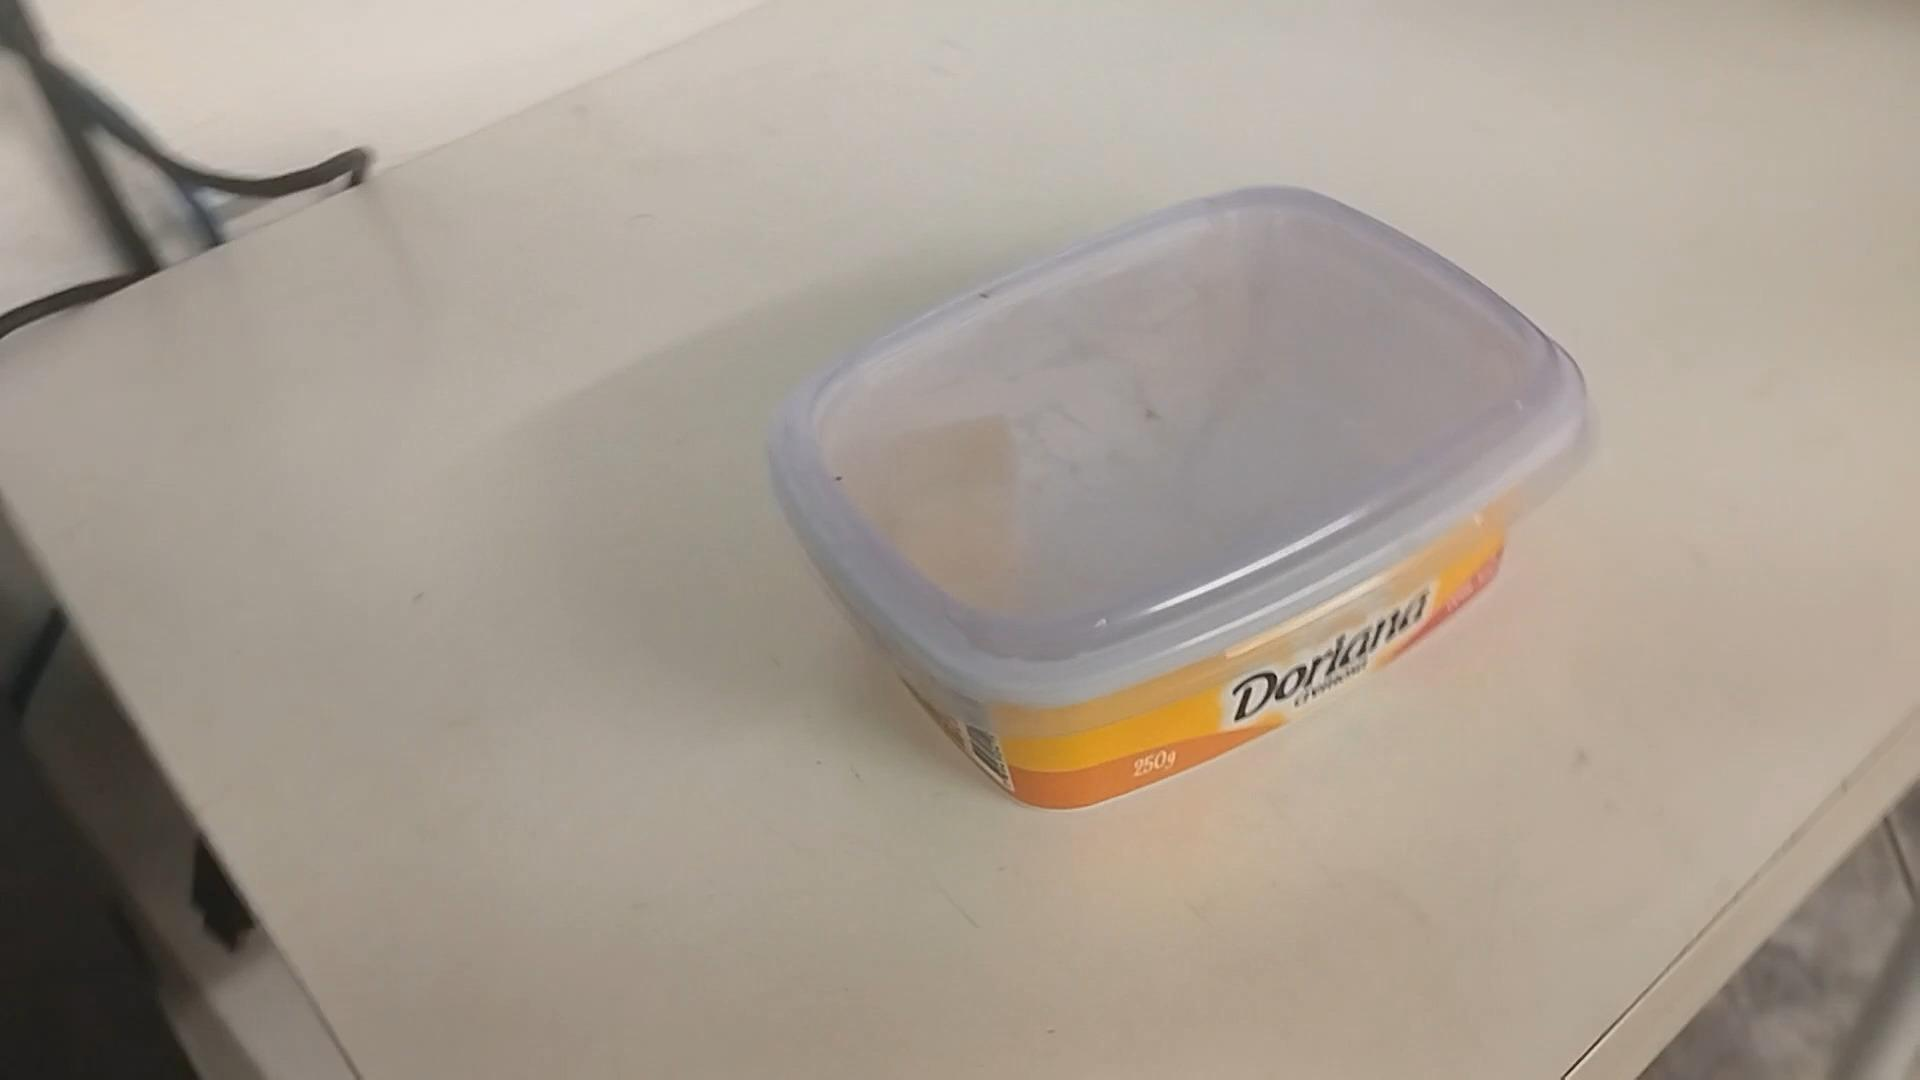butter: (766, 194, 1589, 815)
